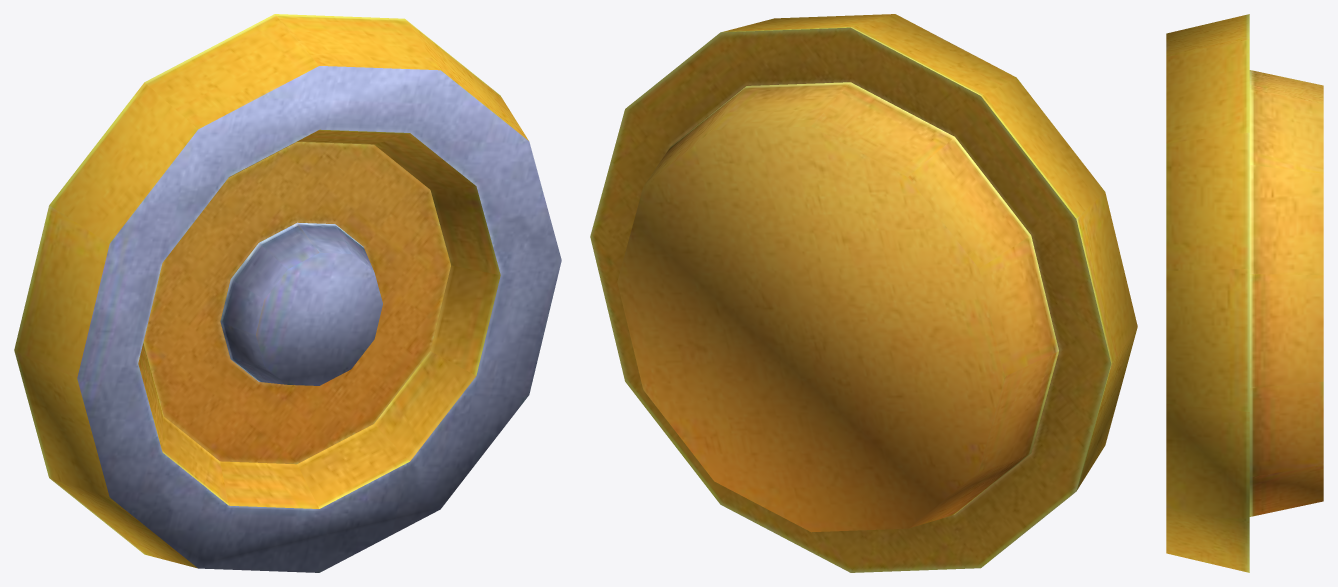
File: armor_50.glb
3 views of the same model, side by side, from view 1: azimuth 30°, elevation 25°; view 2: azimuth 150°, elevation 25°; view 3: azimuth 270°, elevation 25° (orthographic). The views are drawn at different scales.
Parts seen in each view (by area): view 1: armor_50; view 2: armor_50; view 3: armor_50.
Boxes of the visible parts, left/top/right/bottom form: armor_50: left=14, top=14, right=561, bottom=572; armor_50: left=590, top=14, right=1137, bottom=572; armor_50: left=1166, top=14, right=1323, bottom=572.
Size of the model in its own units: 0.4936 by 0.4936 by 0.1384.
1 material, 1 textured.
